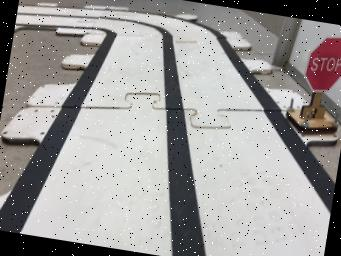stop: (285, 36, 341, 134), (285, 36, 341, 134), (285, 36, 341, 134), (285, 36, 341, 134), (285, 36, 341, 134), (285, 36, 341, 134)
street: (5, 10, 334, 256), (5, 10, 334, 256), (5, 10, 334, 256), (5, 10, 334, 256), (5, 10, 334, 256), (5, 10, 334, 256)
